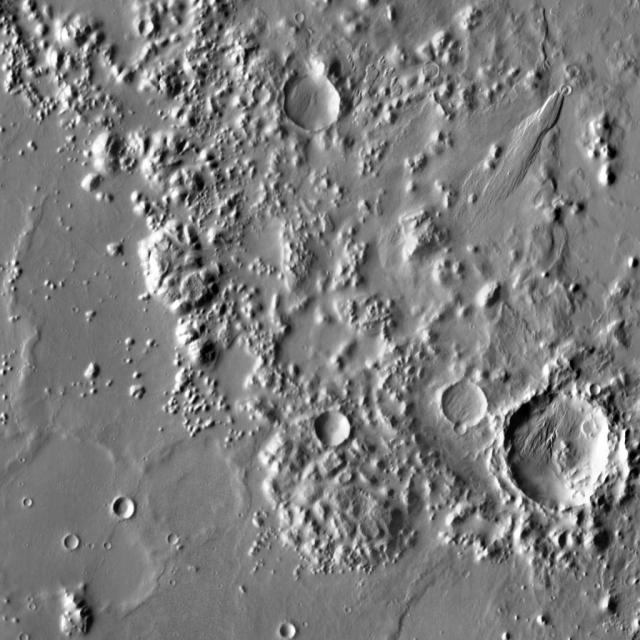crater: (0, 439, 141, 620), (504, 395, 628, 519), (66, 526, 158, 617), (284, 76, 343, 134), (356, 210, 414, 269), (442, 384, 488, 431), (314, 414, 351, 451), (112, 498, 137, 522), (423, 62, 441, 80), (65, 537, 81, 553), (256, 90, 272, 105), (281, 626, 297, 640), (140, 22, 154, 37), (455, 423, 468, 436), (590, 384, 602, 396), (167, 534, 178, 544), (562, 85, 572, 95), (296, 14, 305, 24), (495, 540, 504, 549), (59, 82, 67, 90), (624, 413, 632, 421), (24, 501, 32, 508), (374, 538, 382, 545), (106, 542, 112, 548), (169, 580, 175, 586)
